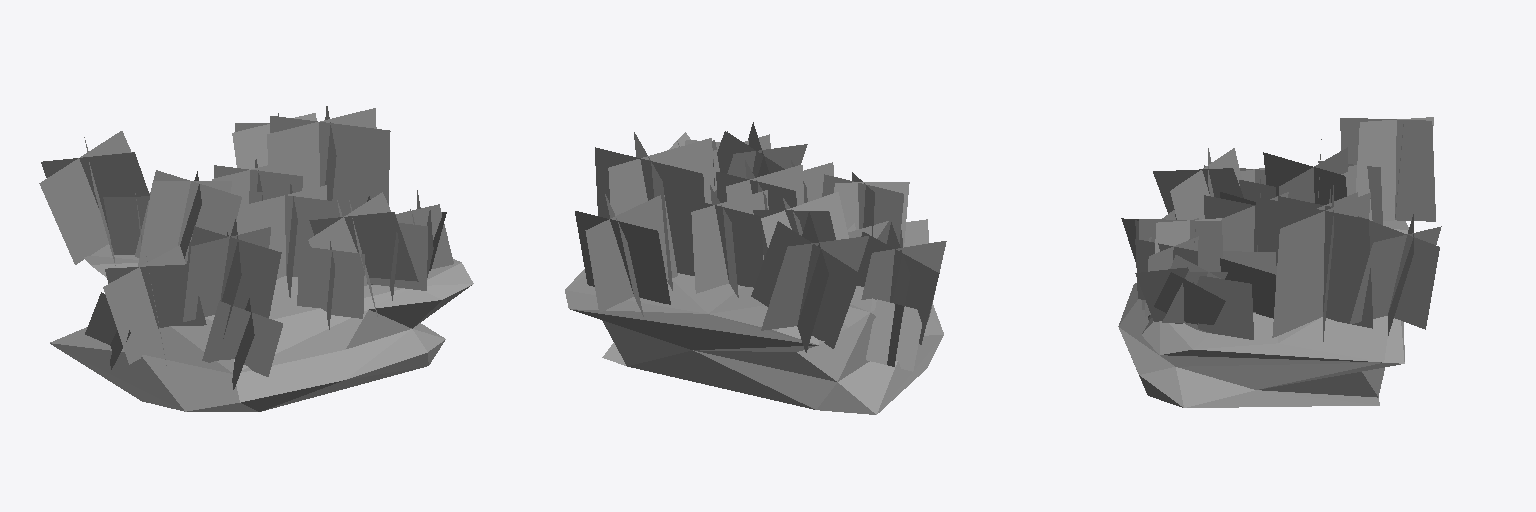
The model's file is ReefBase_blend.obj.
3 views of the same model, side by side, from view 1: azimuth 30°, elevation 25°; view 2: azimuth 150°, elevation 25°; view 3: azimuth 270°, elevation 25° (orthographic).
Parts seen in each view (by area): view 1: ReefBaseOne256; view 2: ReefBaseOne256; view 3: ReefBaseOne256.
Part boxes in pixels (bbox=[...]): ReefBaseOne256: bbox=[39, 106, 473, 411]; ReefBaseOne256: bbox=[565, 122, 946, 414]; ReefBaseOne256: bbox=[1118, 117, 1441, 407].
Bounding box in the file's own units: 8.51 × 4.91 × 7.34.